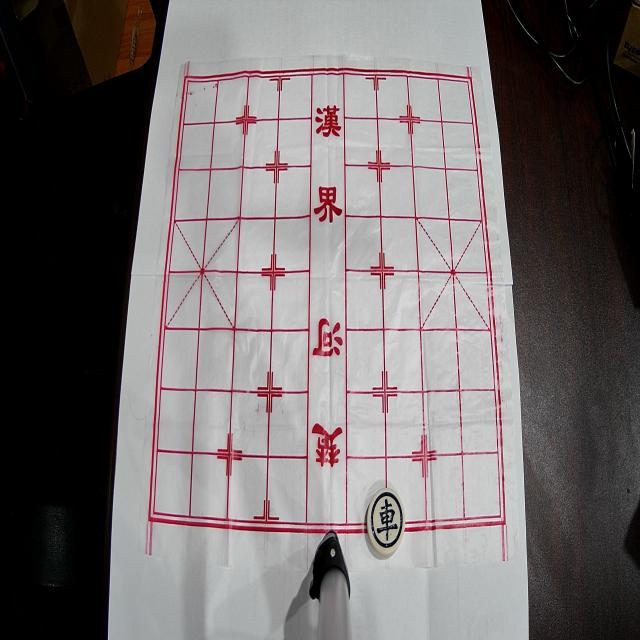black-chariot: (367, 488, 405, 556)
